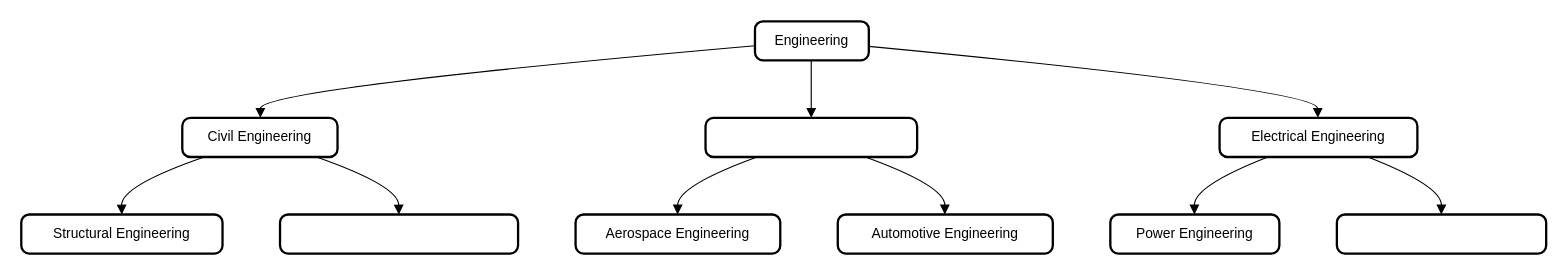
The diagram is 1566 pixels wide and 274 high, and some of its shapes have lost their labels. The box of each missing label's shape, as (x1, y1, x2, y2) in pixels:
Electronics Engineering: (1335, 213, 1547, 254)
Environmental Engineering: (278, 213, 519, 254)
Mechanical Engineering: (704, 116, 918, 158)
